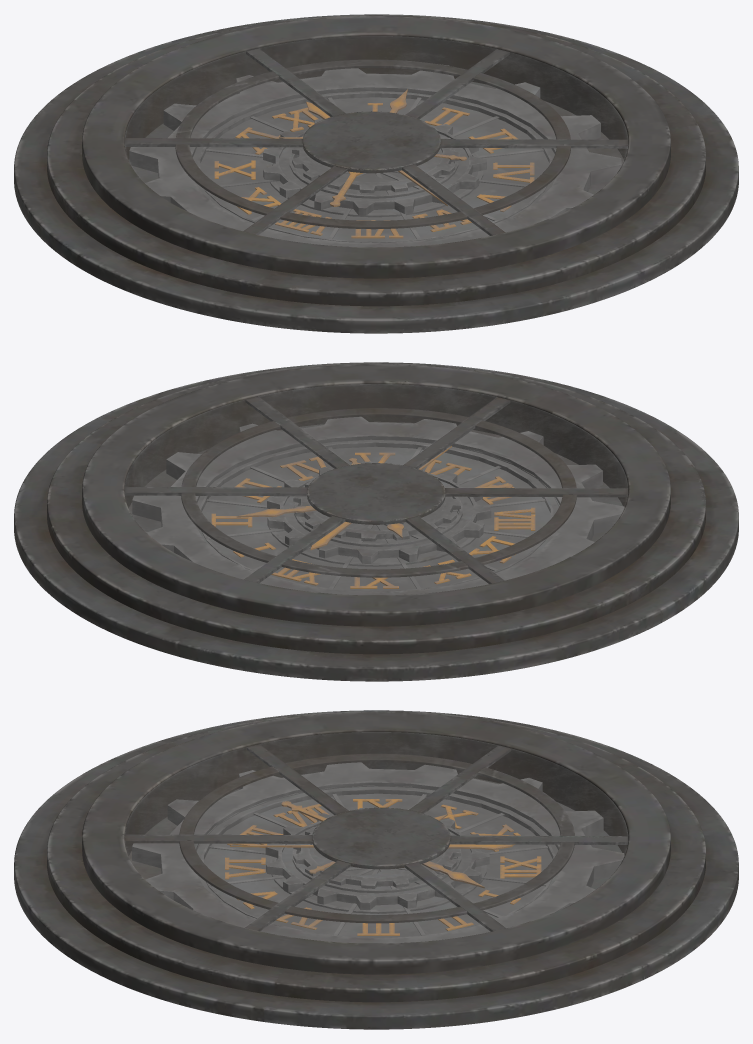
Rendered from stage.glb.
3 renders of one model, top to bottom at view 1: azimuth 30°, elevation 25°; view 2: azimuth 150°, elevation 25°; view 3: azimuth 270°, elevation 25°, orthographic.
Visible parts, largest first — view 1: Stage, Stage_Glass, Gear_01, Gear_02, Time, Gear_03, Handle_01; view 2: Stage, Stage_Glass, Gear_01, Gear_02, Time, Gear_03, Handle_01; view 3: Stage, Stage_Glass, Gear_01, Gear_02, Time, Gear_03, Handle_01.
Boxes of the visible parts, x1,y1,x2,y2 form: Stage: (14,14,738,333); Stage_Glass: (124,36,627,246); Gear_01: (129,64,621,247); Gear_02: (263,118,486,215); Time: (214,103,534,238); Gear_03: (292,130,459,193); Handle_01: (279,89,466,206); Stage: (14,362,738,681); Stage_Glass: (125,384,627,594); Gear_01: (132,416,624,595); Gear_02: (267,461,491,563); Time: (211,452,535,588); Gear_03: (293,478,460,541); Handle_01: (237,446,512,550); Stage: (14,710,738,1029); Stage_Glass: (124,732,627,942); Gear_01: (132,762,624,943); Gear_02: (265,807,489,910); Time: (225,799,541,935); Gear_03: (293,827,460,888); Handle_01: (230,801,512,888).
Bounding box in the file's own units: 12.34 × 0.7617 × 12.34.
7 materials, 7 textured.
